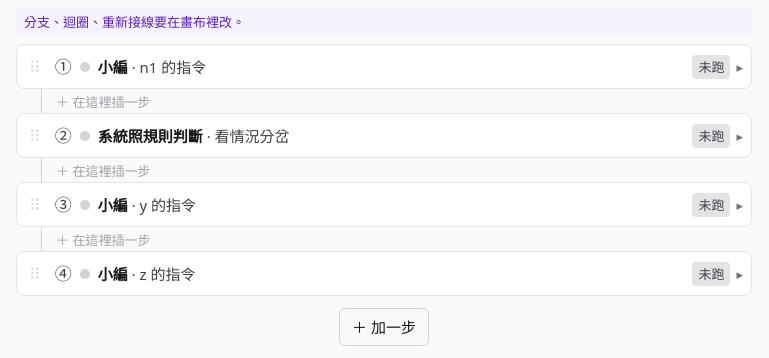
Test: 跑的時候 › 直線可以拖曳排序；有分支就鎖住並指去畫布
This screenshot has width=769, height=358.
(page scrolled)
Click the button with test id "station-q-row" at (150, 136), box [51,120,686,151]
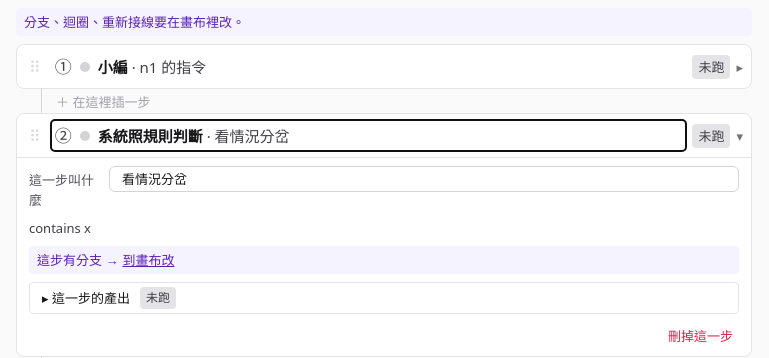
Expected: the element with test id "station-q-branch" shows "這步有分支", [37,251,102,269]
